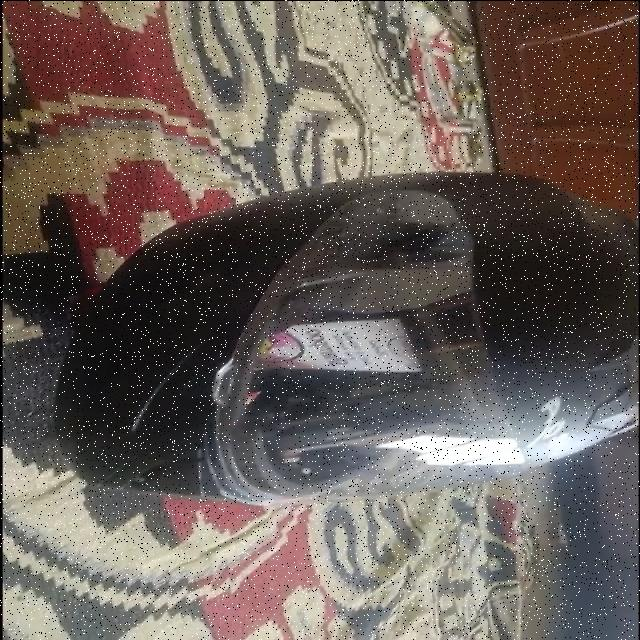Helmet: (48, 170, 637, 506)
